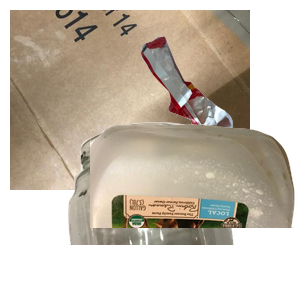cardboard: (10, 10, 250, 190)
glass: (61, 120, 287, 300)
plastic: (90, 120, 300, 300)
trash: (139, 34, 300, 167)
